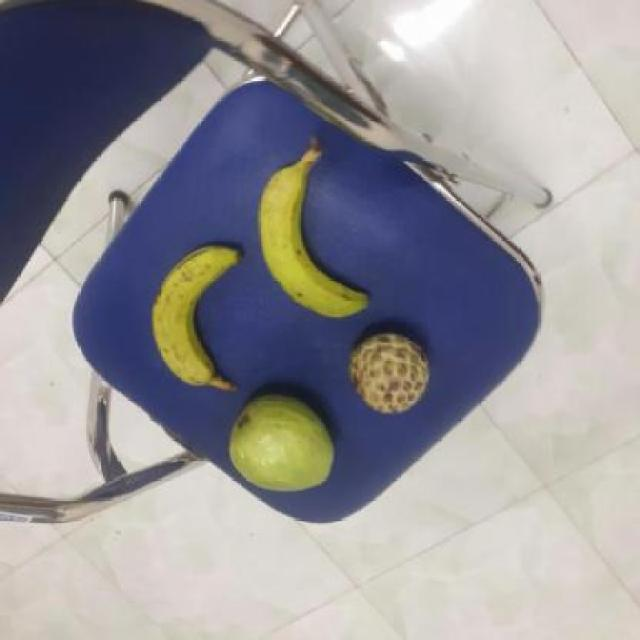banana: (258, 167, 373, 321), (150, 250, 245, 392)
guava: (228, 392, 340, 491)
sugar apple: (352, 332, 438, 416)
